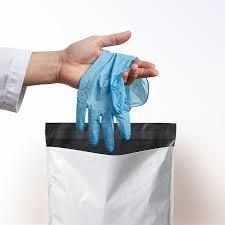Glove: (76, 51, 148, 150)
